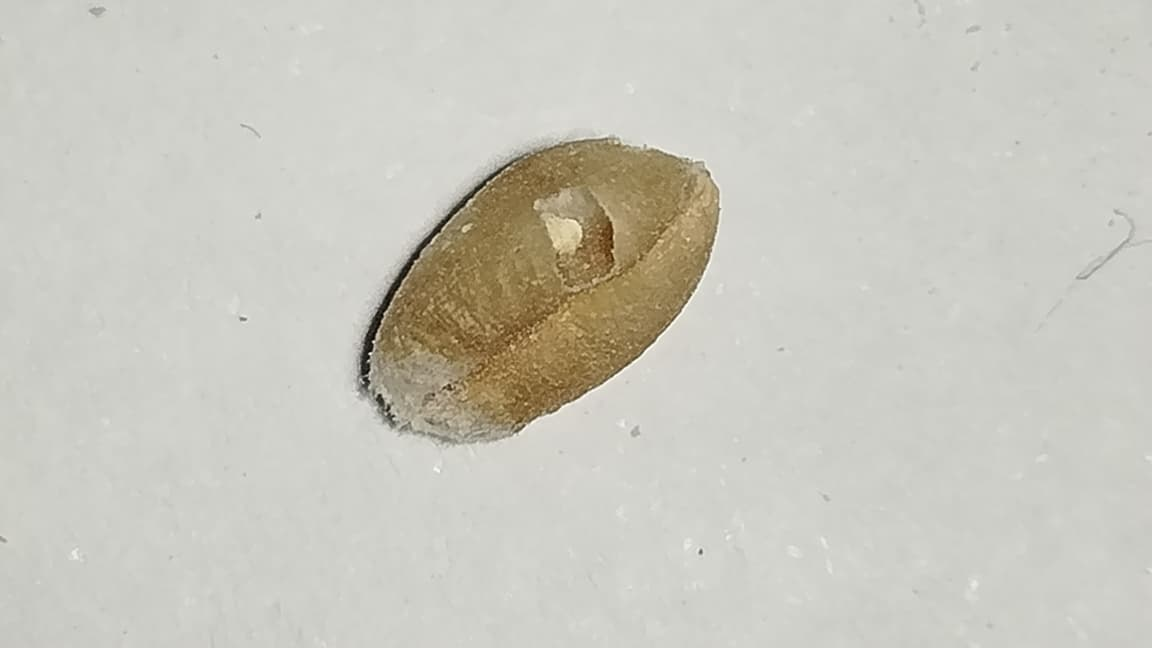damage: (362, 135, 719, 445)
insectdamage: (527, 173, 641, 297)
